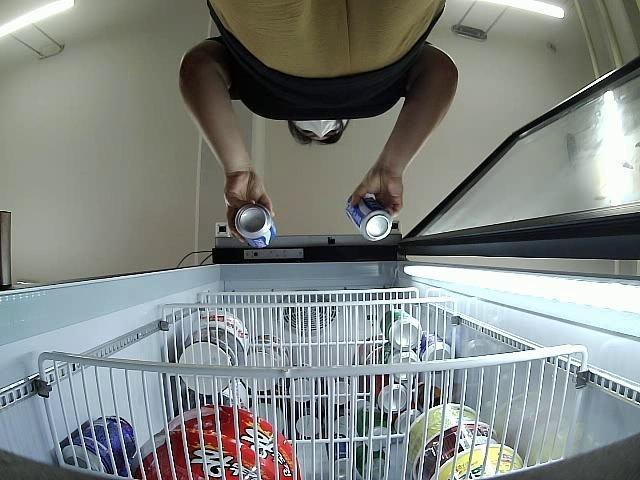13_pocariSweat: (348, 196, 392, 242), (236, 202, 276, 249)
